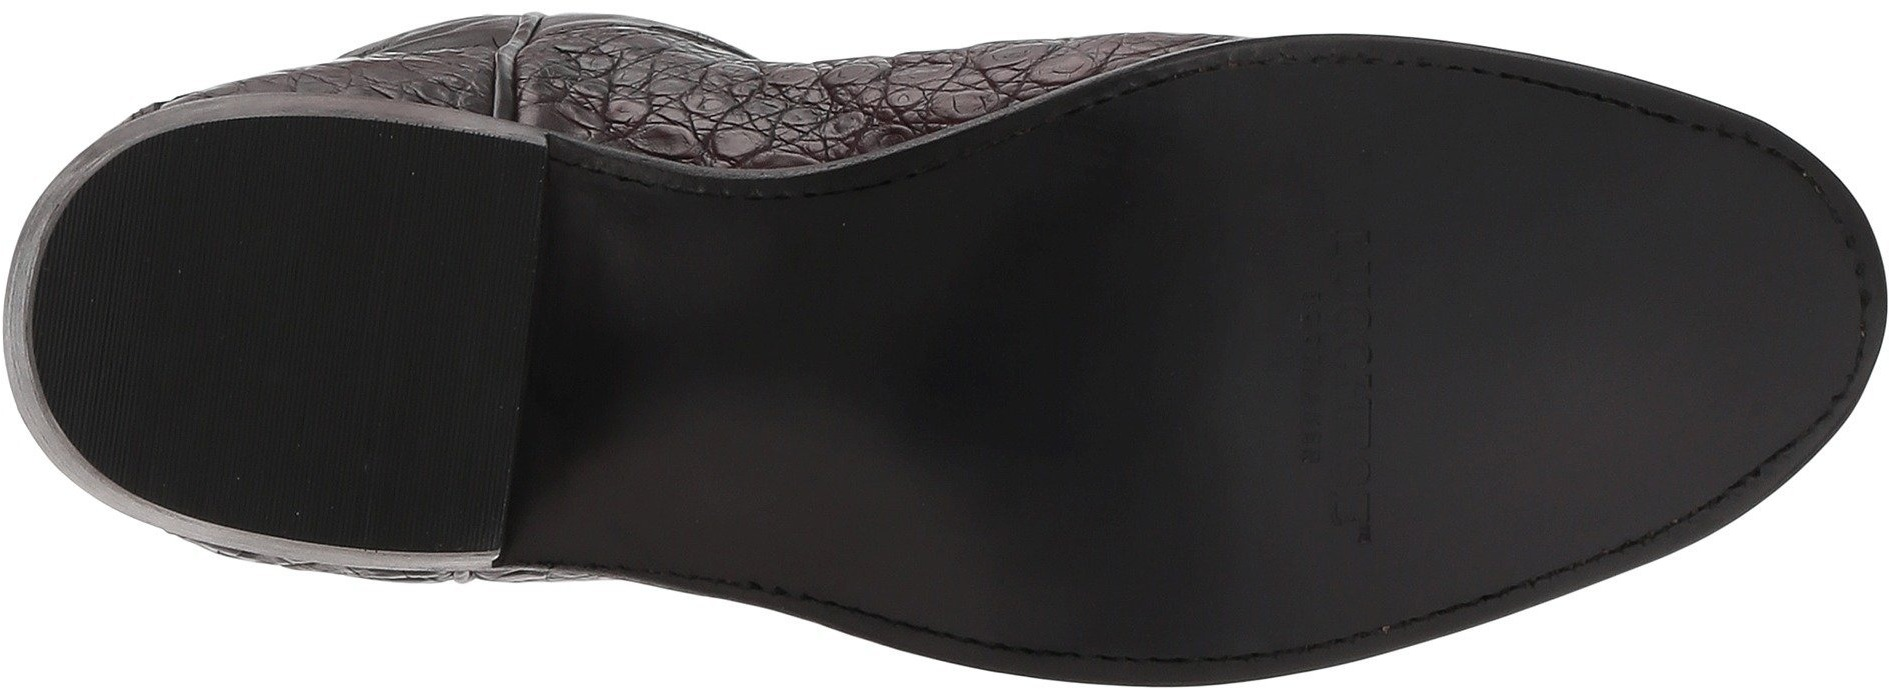exclude: (498, 107, 910, 665)
other: (161, 164, 505, 503), (1005, 378, 1289, 647), (1488, 176, 1766, 442), (1275, 82, 1419, 204), (1138, 200, 1266, 324)
text: (1300, 357, 1455, 550), (1267, 217, 1449, 351)
